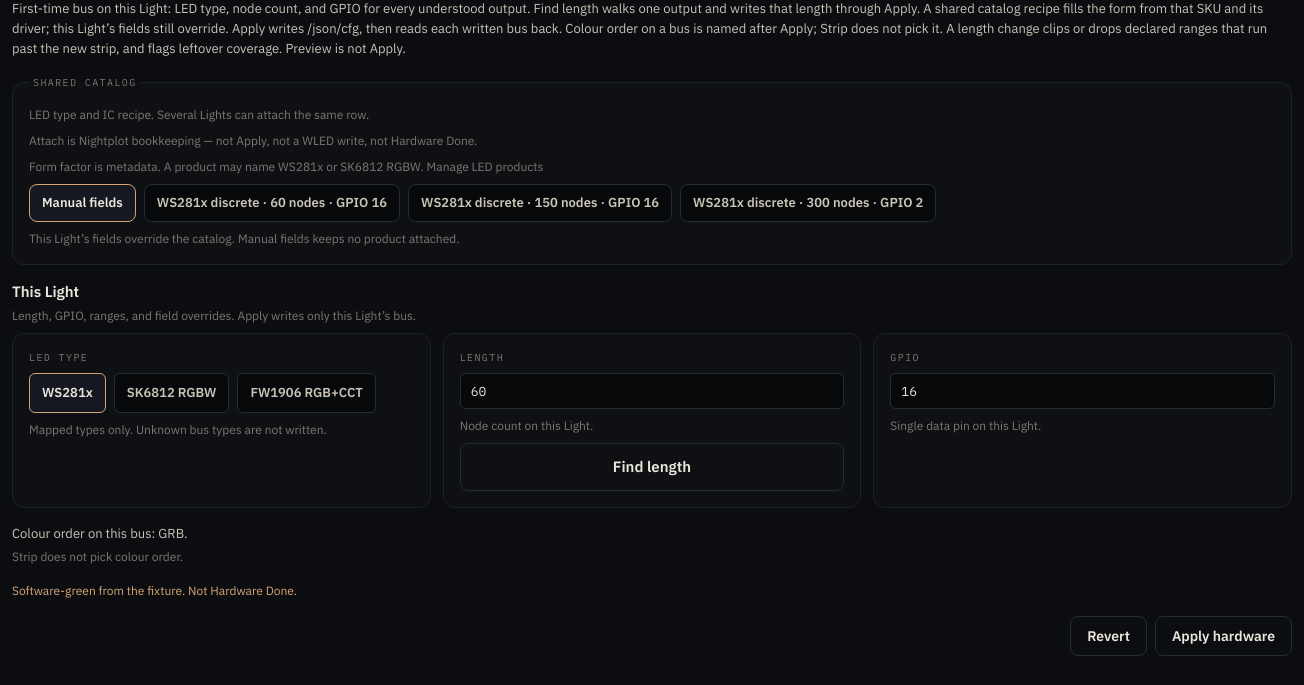
Test case: Strip provision › titles a buildProvisionWrite refuse from provisionWrite — failure panel, not notice-only
Click the button "Apply hardware". click: x=1223, y=636
box: [1155, 616, 1292, 656]
(page scrolled)
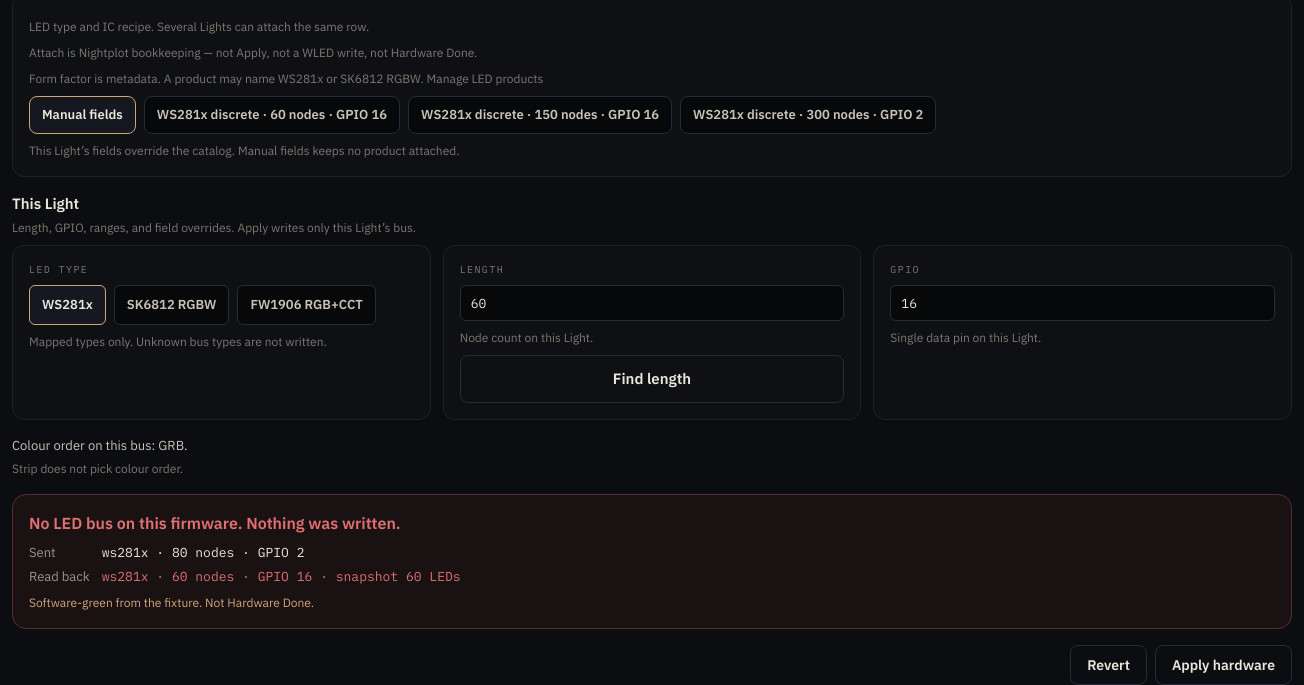
Expected: the text "Sent" is shown, [29, 544, 56, 561]
Expected: the text "ws281x · 80 nodes · GPIO 2" is shown, [102, 544, 304, 561]
Expected: the text "Read back" is shown, [29, 566, 90, 586]
